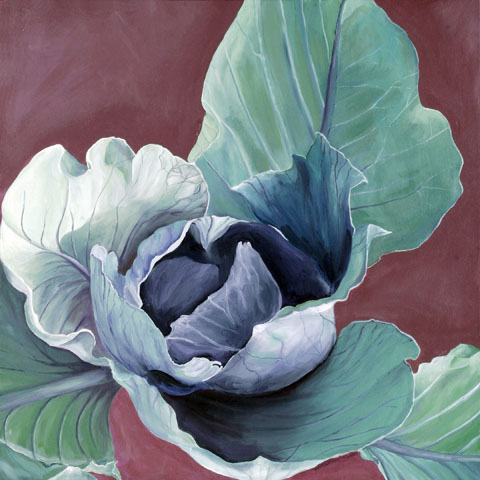cabbage: (1, 0, 478, 478)
